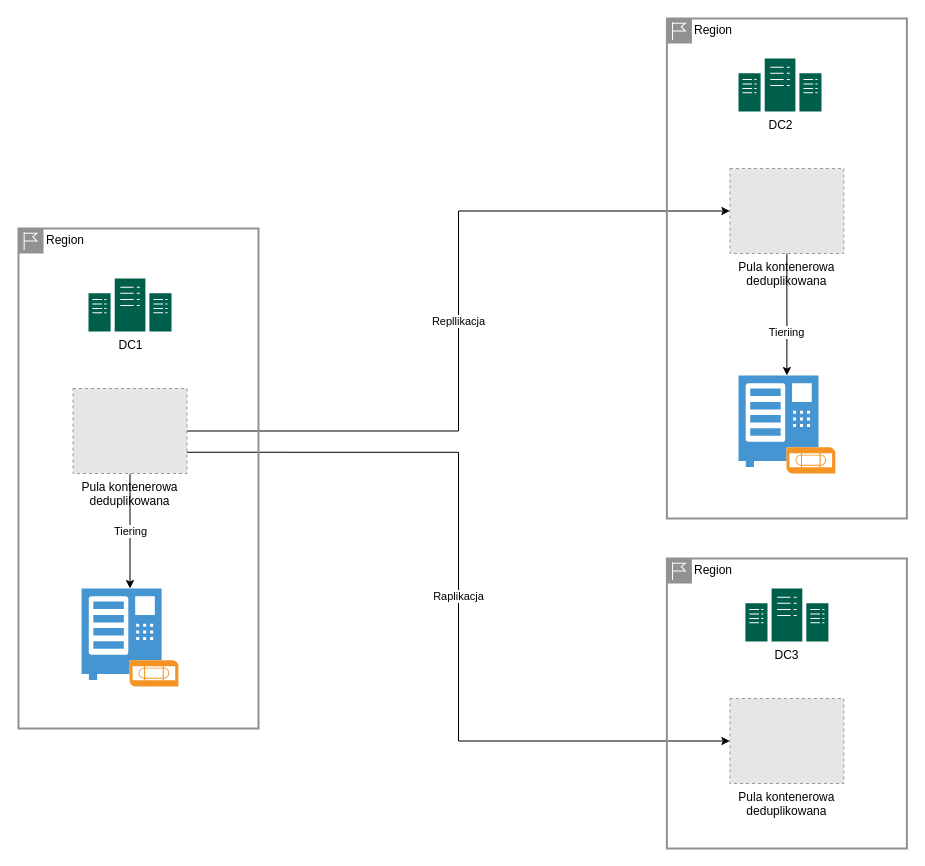
Some shapes in this 925 by 866 pixel diagram are drawn without their labels. Grey dashed boxes stand in for pictures. Here are the shapes that lost their labels. From the top down, the centre of each, then its label:
[786,424]: LTO8 (WORM)
[129,637]: LTO8
